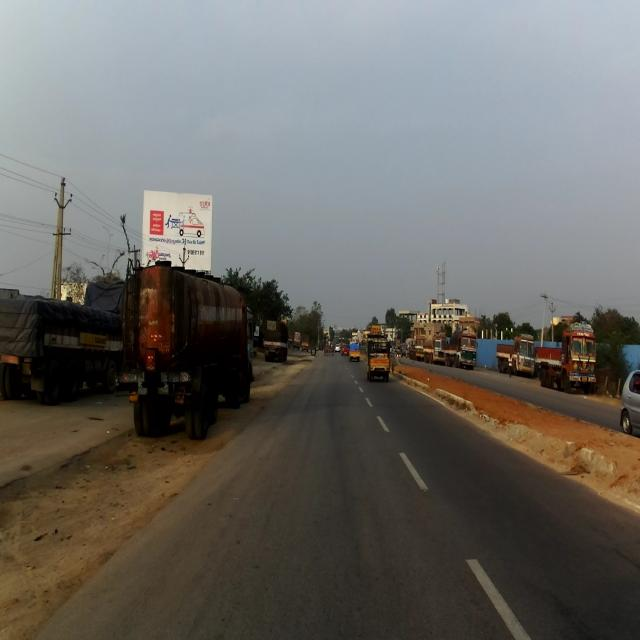truck: (115, 260, 257, 440), (0, 278, 127, 404), (534, 319, 597, 389), (496, 332, 536, 377), (445, 328, 478, 369), (364, 333, 390, 381), (262, 318, 288, 362), (348, 340, 360, 362)
